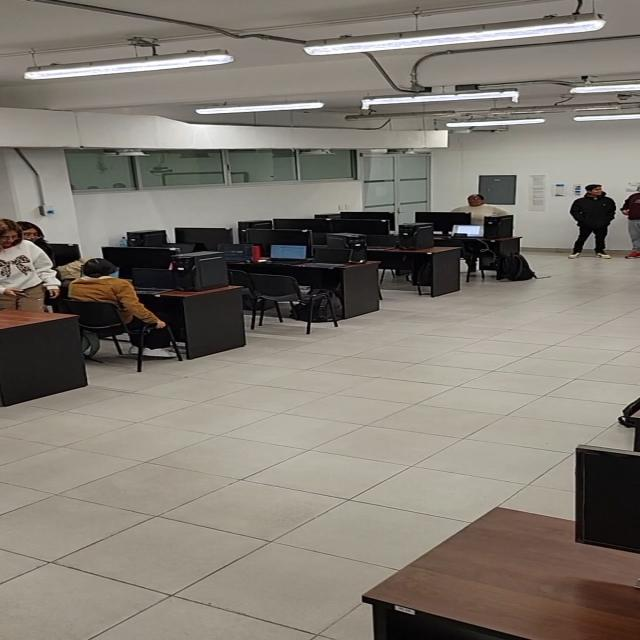Persona: (0, 219, 52, 327), (564, 183, 617, 264)
